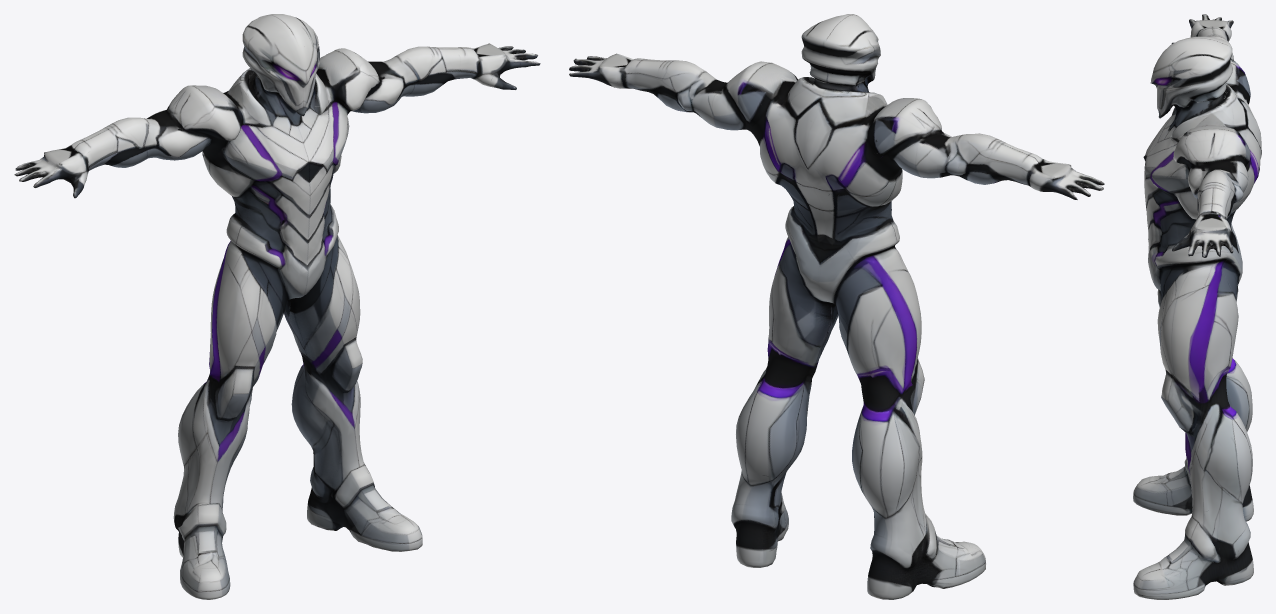
Rendered from Silver_Sentinel_0123153528_texture.fbx.
The picture shows the model from 3 angles, left to right: view 1: azimuth 30°, elevation 25°; view 2: azimuth 150°, elevation 25°; view 3: azimuth 270°, elevation 25°; orthographic projection. The views are drawn at different scales.
Parts seen in each view (by area): view 1: Mesh0; view 2: Mesh0; view 3: Mesh0.
Part boxes in pixels (<box>): Mesh0: <box>14,14,540,599</box>; Mesh0: <box>569,14,1104,599</box>; Mesh0: <box>1133,14,1261,599</box>.
Bounding box in the file's own units: 191 × 188 × 43.05.
1 material, 1 textured.
